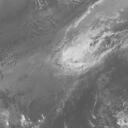cyclone: (55, 3, 121, 76)
